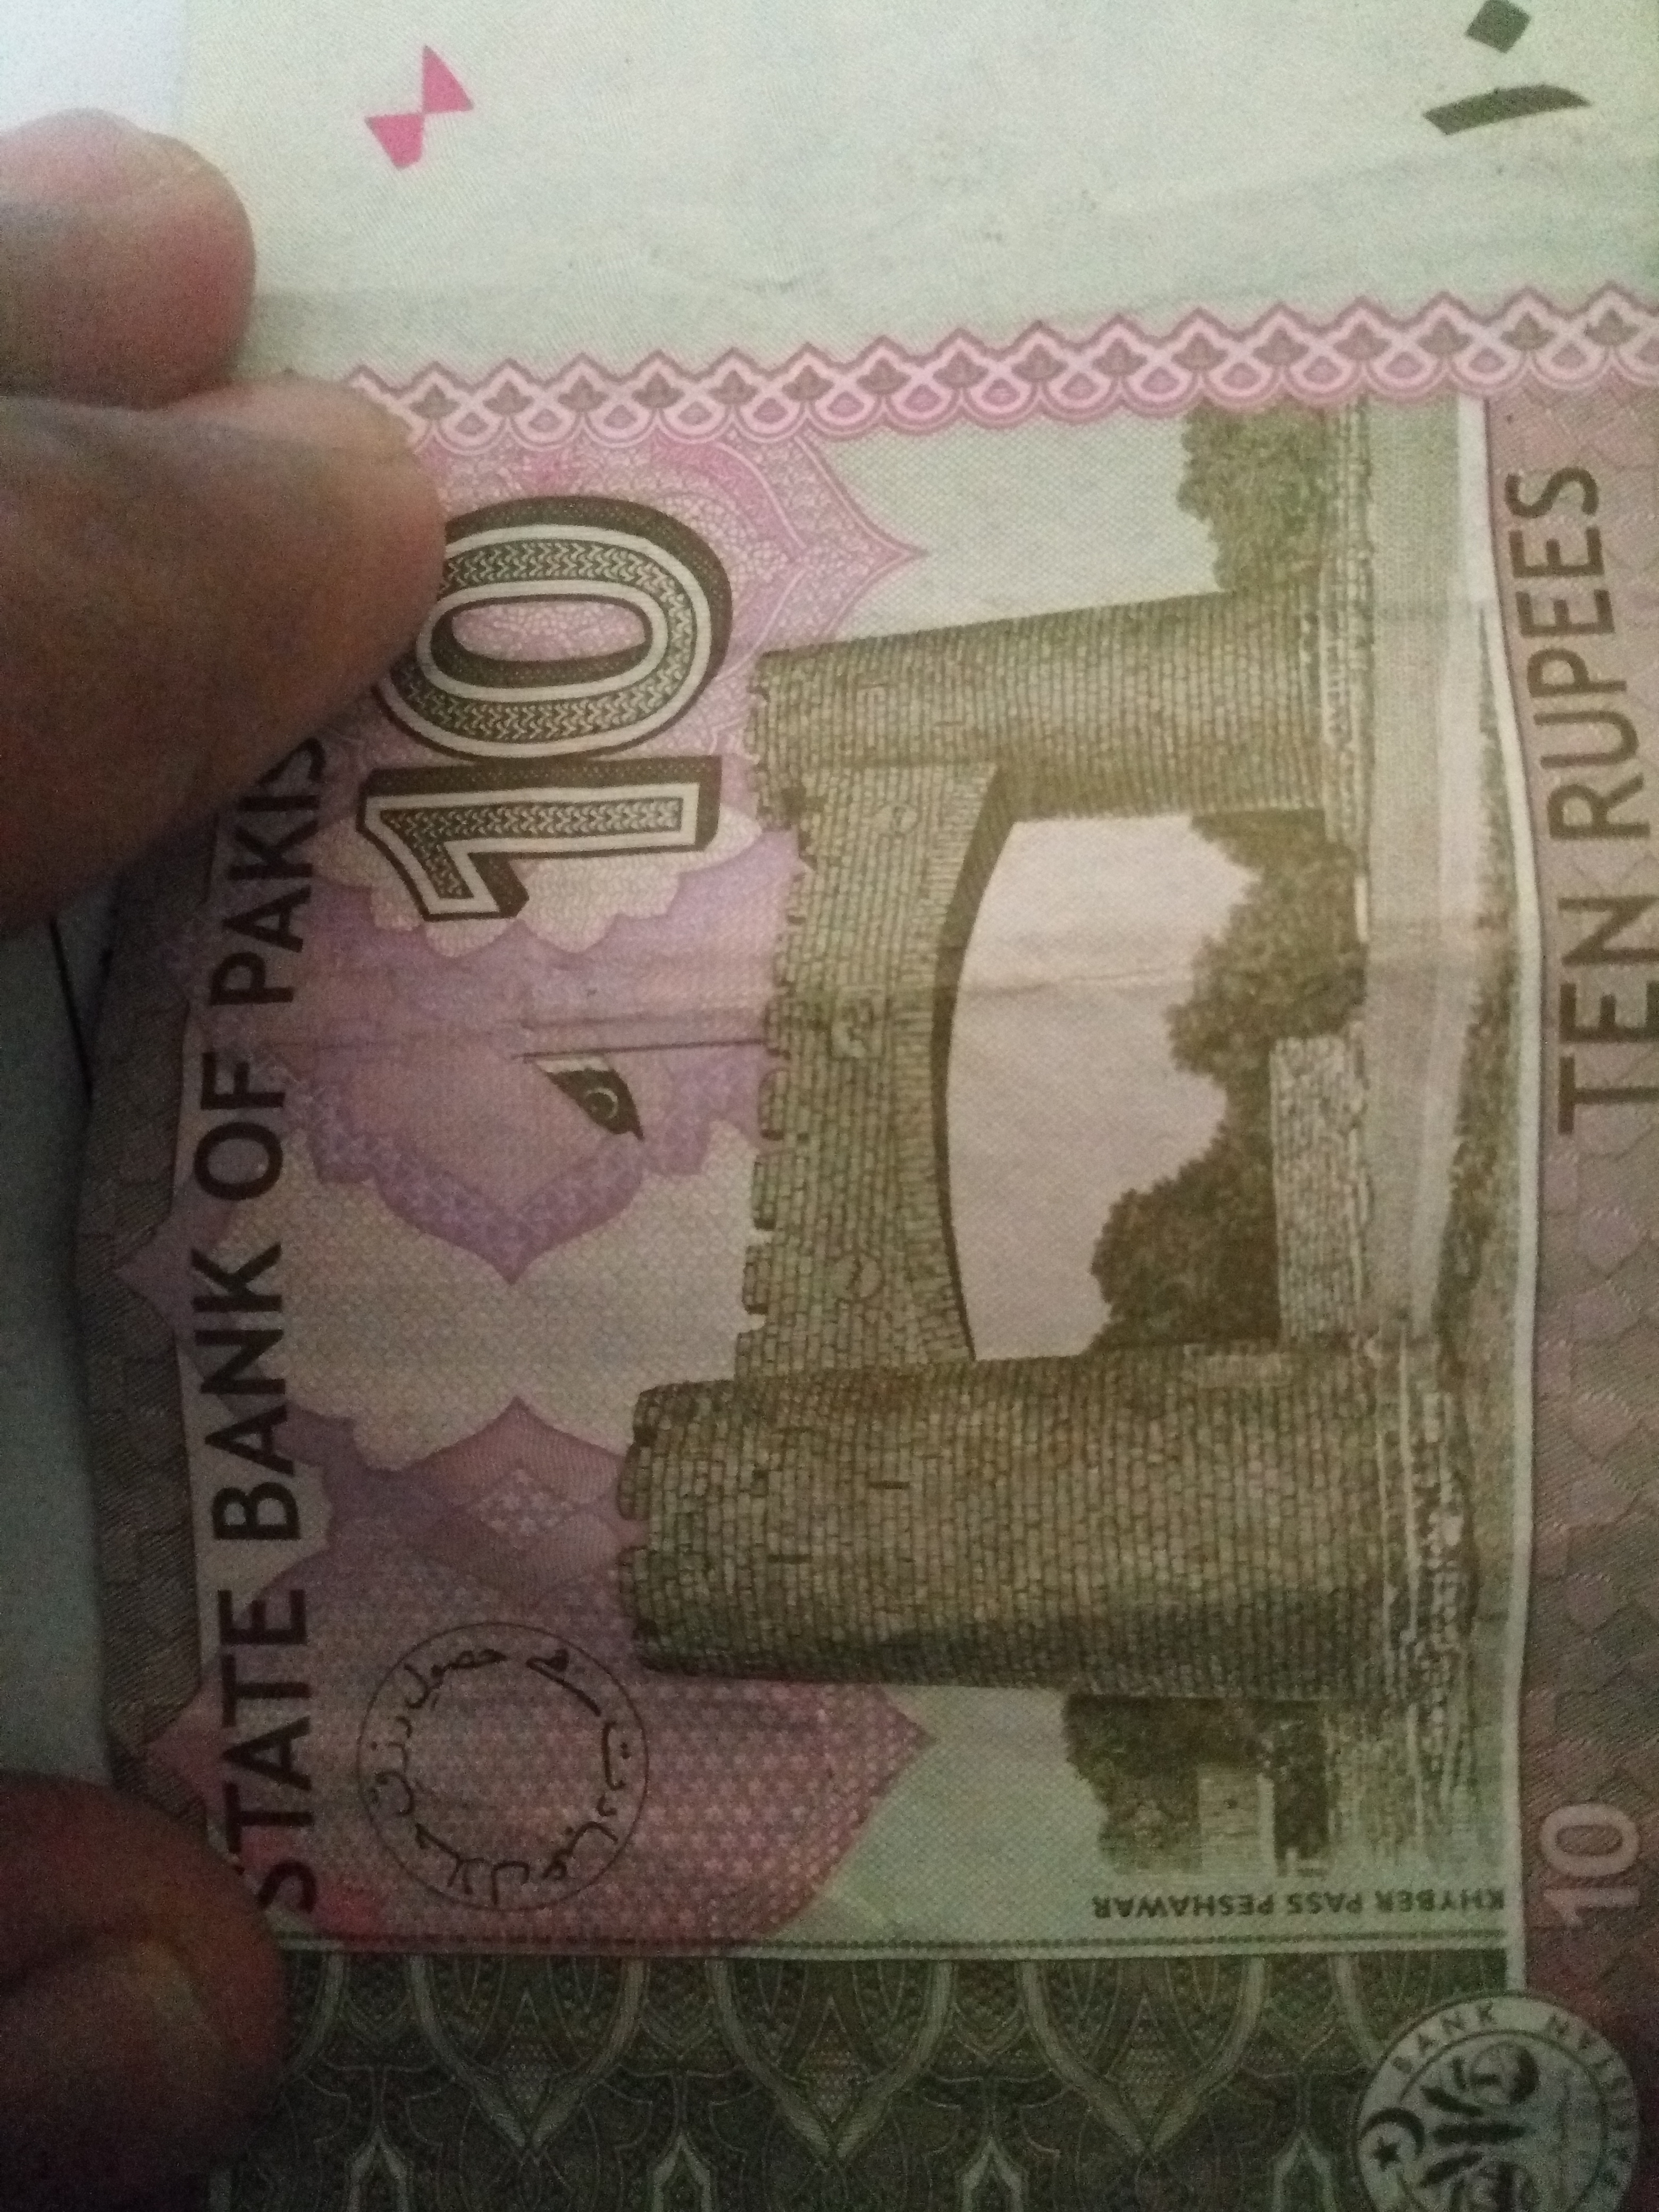10 rupee: (66, 23, 1615, 2184)
